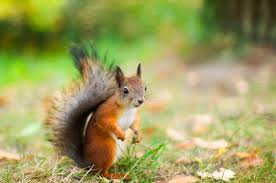Ardilla: (85, 64, 155, 174)
